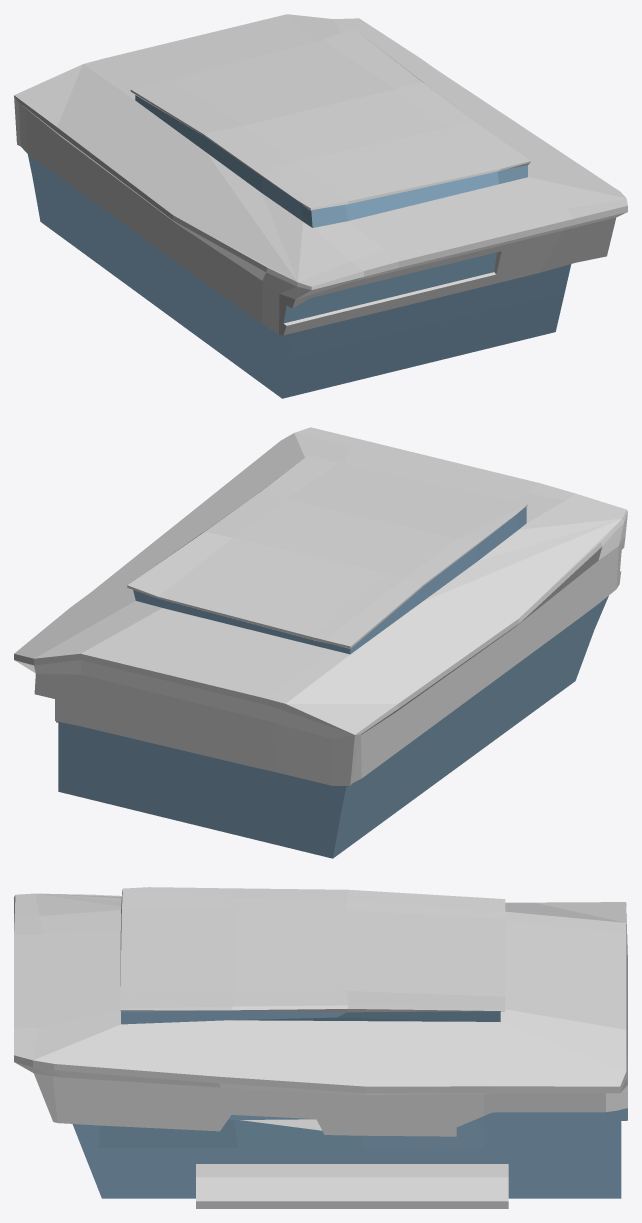
The model's file is gym 2.fbx.
3 renders of one model, top to bottom at view 1: azimuth 30°, elevation 25°; view 2: azimuth 150°, elevation 25°; view 3: azimuth 270°, elevation 25°, orthographic. The views are drawn at different scales.
Parts seen in each view (by area): view 1: Cube; view 2: Cube; view 3: Cube.
Boxes of the visible parts, bbox=[...] form: Cube: bbox=[14, 14, 627, 398]; Cube: bbox=[14, 427, 627, 858]; Cube: bbox=[14, 887, 627, 1208].
Size of the model in its own units: 592 by 278 by 826.
